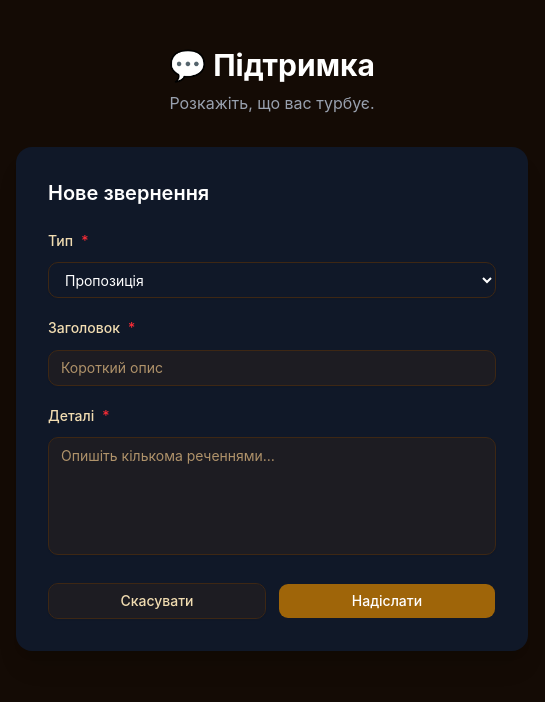
CreateSubmission › shows the backend message in an alert on failure and lets the user retry
The width and height of the screenshot is (545, 702).
In the field with test id "submission-title-input": [272, 368] box top-left (48, 350), bottom-right (496, 386), type "Valid title"
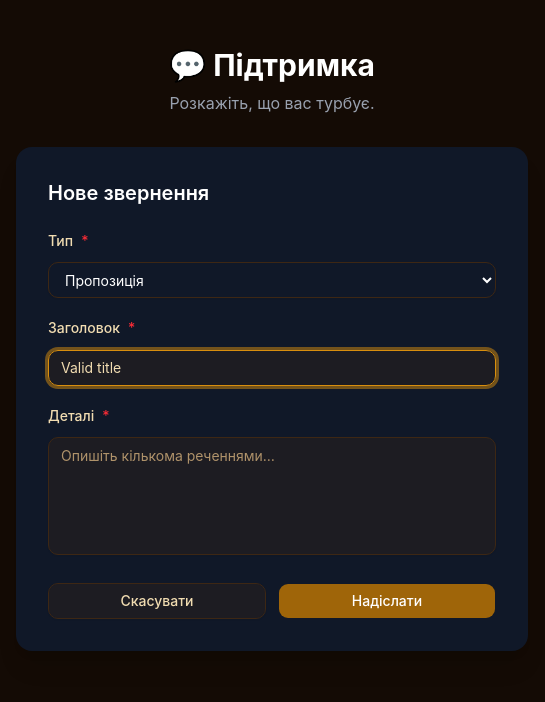
In the text box with test id "submission-body-input": [272, 496] box top-left (48, 437), bottom-right (496, 555), type "A body that is long enough"
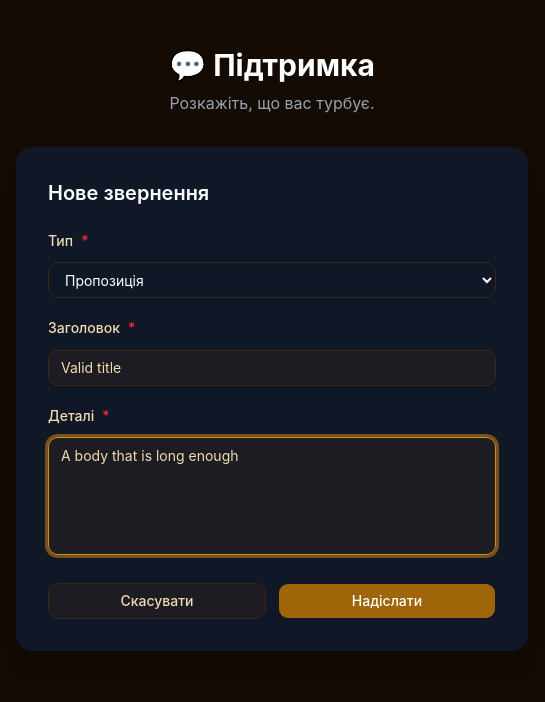
Click the button with test id "submission-submit": [387, 601] box top-left (278, 583), bottom-right (496, 619)
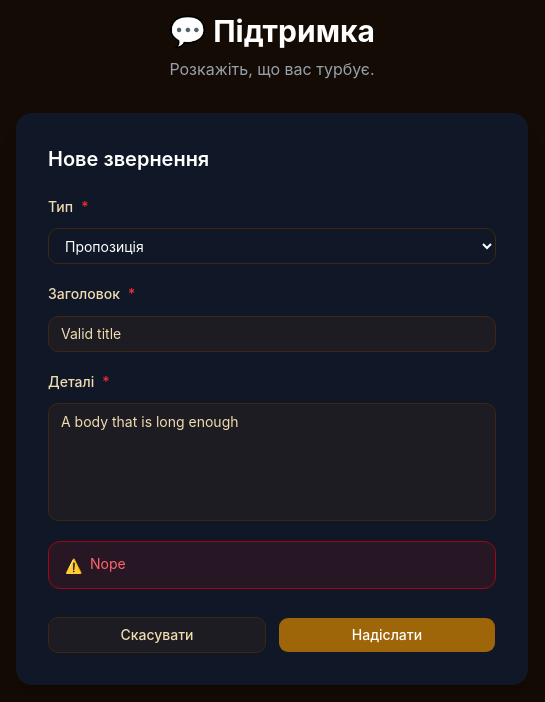
Expected: the button with test id "submission-submit" is enabled, top-left (278, 617), bottom-right (496, 653)
Result: the message shows "Nope" at top-left (90, 555), bottom-right (126, 572)
